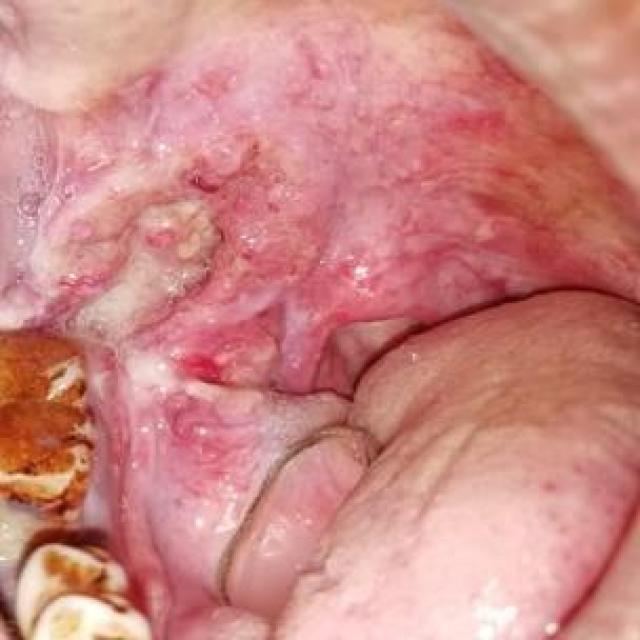cancer-detection: (3, 51, 636, 638)
processing_area: (1, 0, 638, 638)
